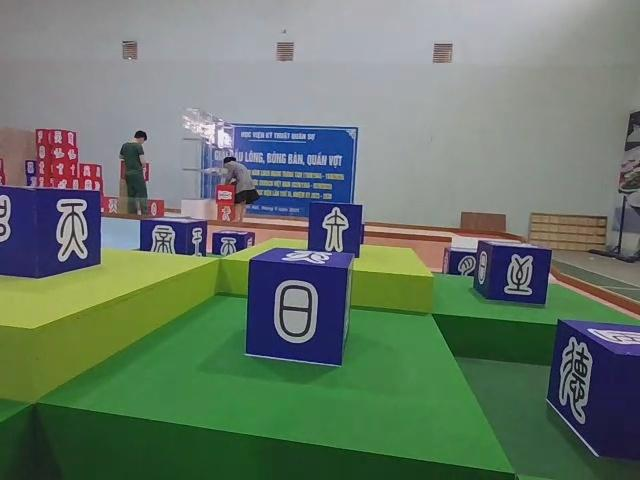R2 Fake Blue: (545, 319, 640, 465), (243, 249, 355, 371), (2, 185, 104, 280), (474, 240, 552, 307), (308, 201, 366, 259), (139, 217, 205, 256), (210, 232, 254, 257), (440, 248, 476, 278)
